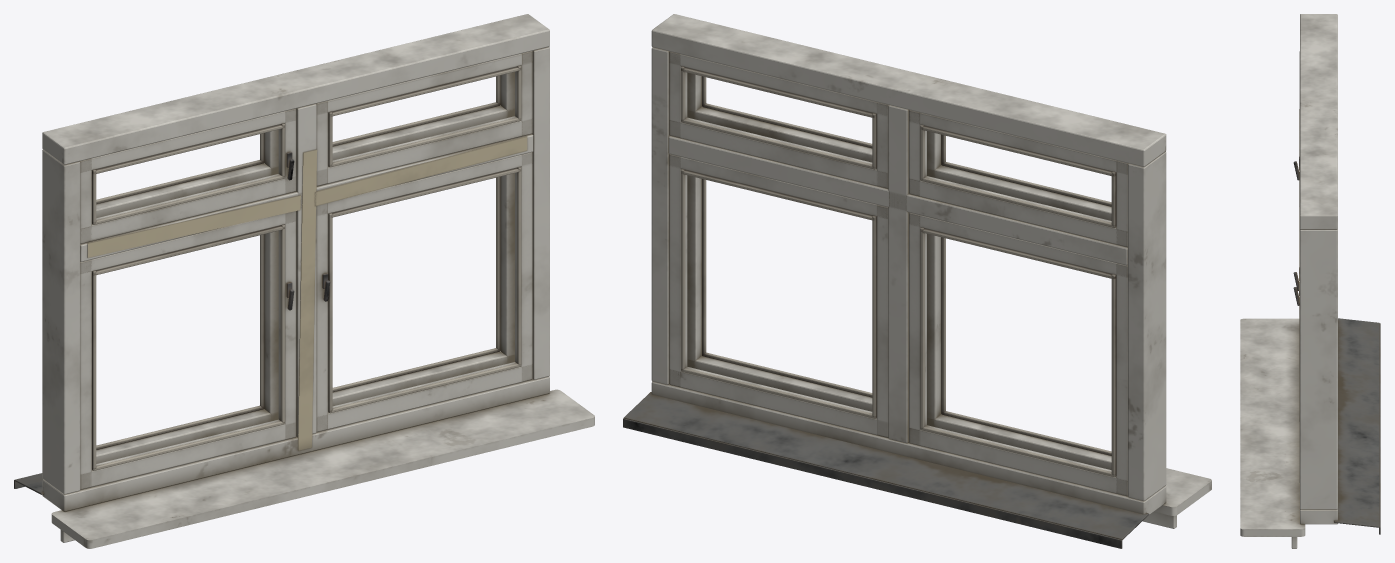
File: WindowFrame.fbx
3 renders of one model, left to right at view 1: azimuth 30°, elevation 25°; view 2: azimuth 150°, elevation 25°; view 3: azimuth 270°, elevation 25°, orthographic. The views are drawn at different scales.
Visible parts, largest first — view 1: WindowFrame_Mesh; view 2: WindowFrame_Mesh; view 3: WindowFrame_Mesh.
Part boxes in pixels (x1,y1,x2,y2): WindowFrame_Mesh: (14,14,594,548); WindowFrame_Mesh: (623,14,1211,548); WindowFrame_Mesh: (1240,14,1380,548).
Bounding box in the file's own units: 1.84 × 1.35 × 0.518.
